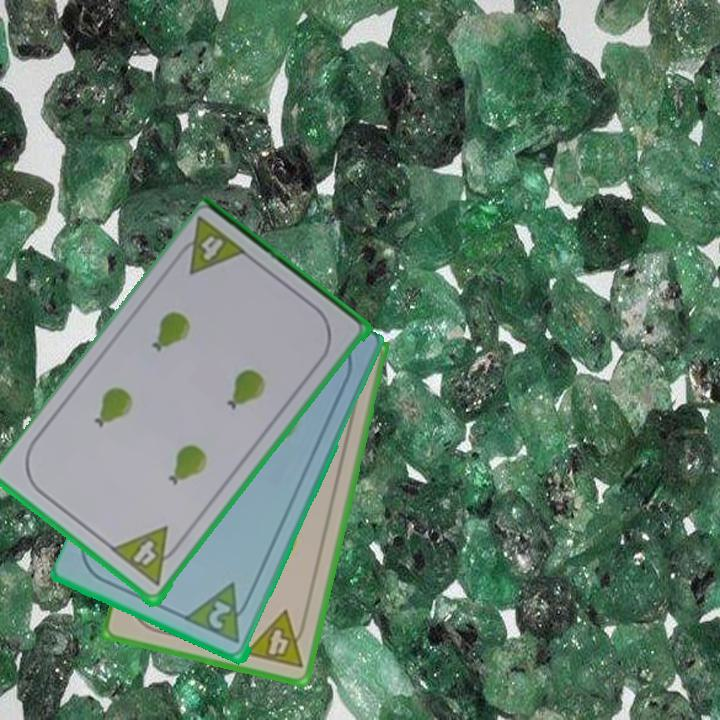2p: (183, 580, 257, 647)
4p: (240, 607, 311, 672), (111, 524, 167, 573), (197, 232, 227, 265)
